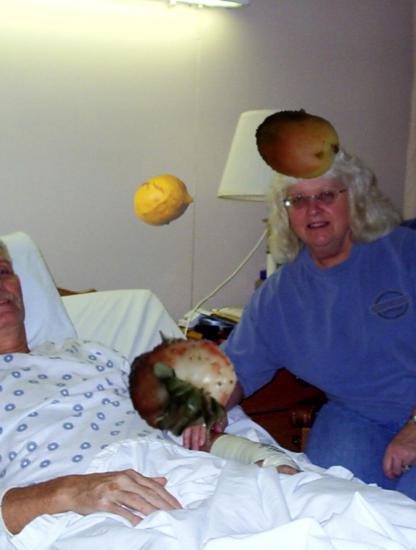Lemon: (132, 170, 193, 231)
Papaya: (253, 99, 341, 187)
Strawberry: (121, 326, 246, 451)
